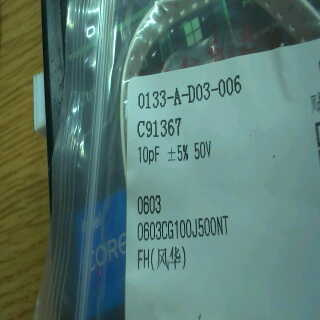10pF: (137, 141, 161, 167)
